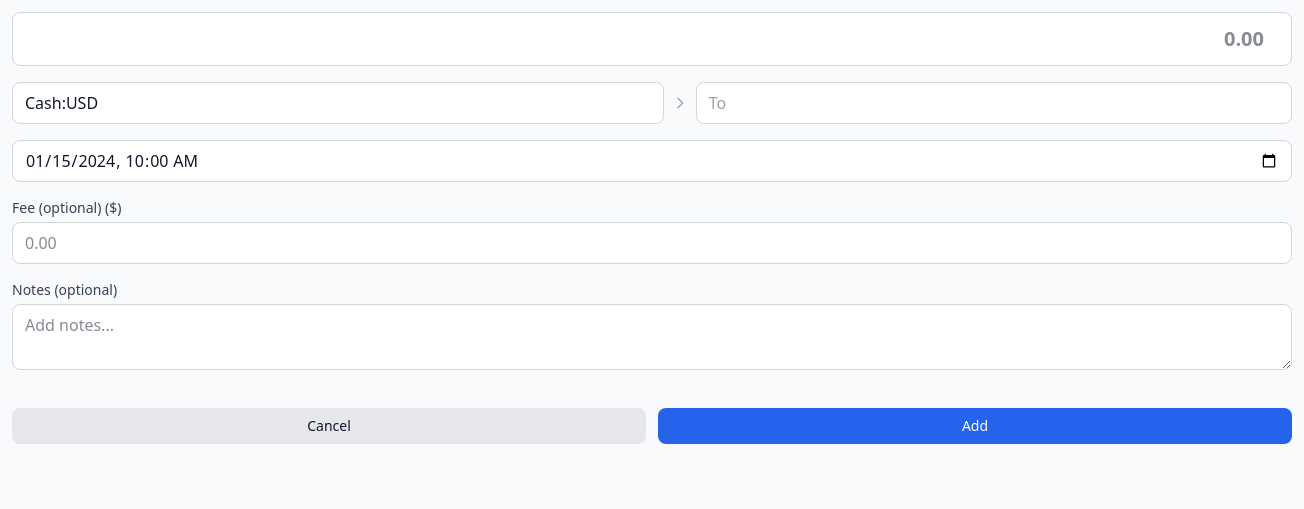
Test case: TransferTransactionForm › shows validation errors when submitting empty form
Click the button "Add".
click(975, 426)  # box [658,408,1292,444]
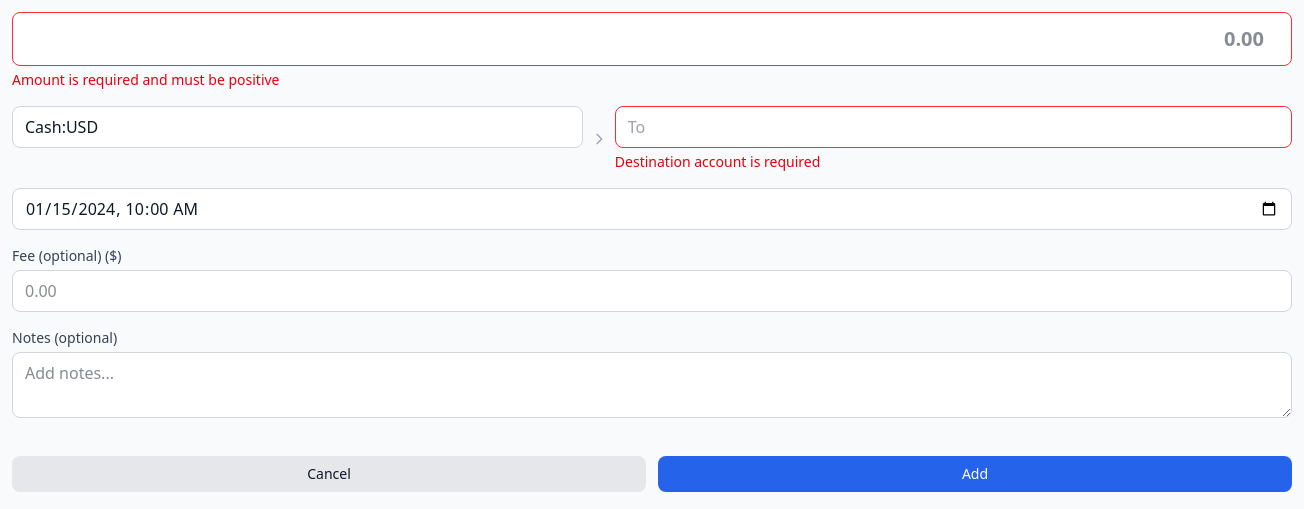
Check: the text "Amount is required and must be positive" is shown, box [12,70,280,89]
Check: the text "Destination account is required" is shown, box [615,152,820,171]
